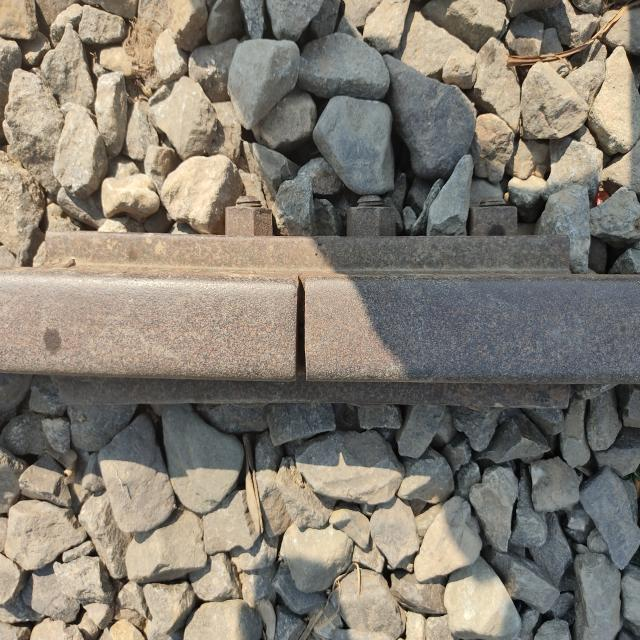Faults: (283, 282, 323, 386)
